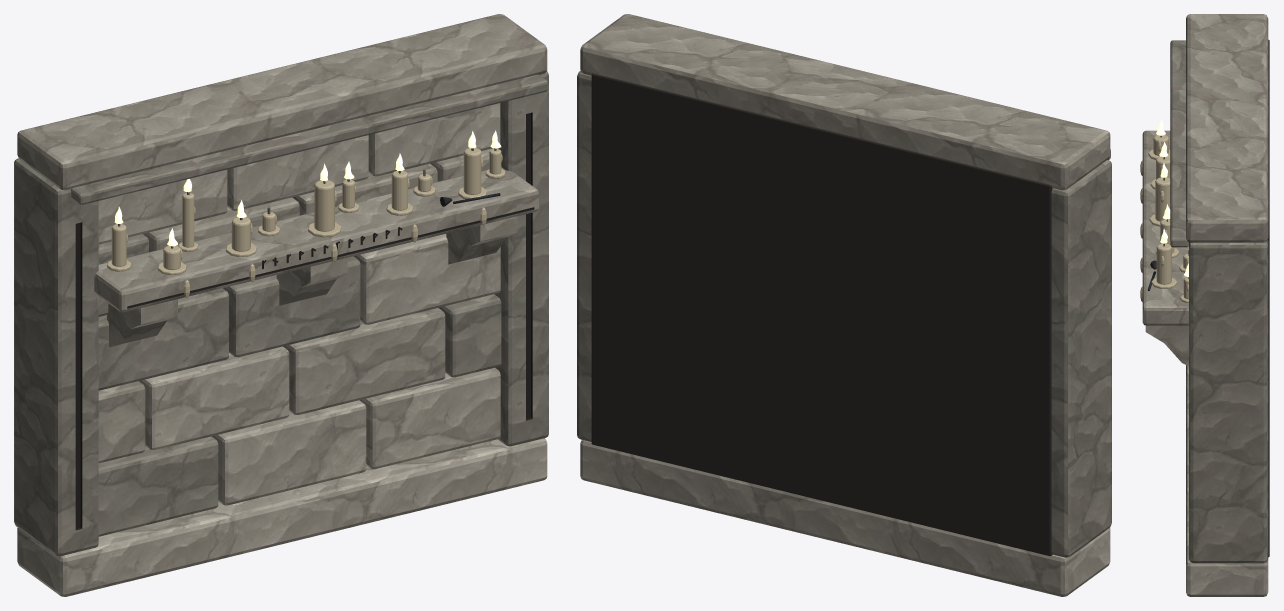
File: qb_candle_ledge.glb
The picture shows the model from 3 angles, left to right: view 1: azimuth 30°, elevation 25°; view 2: azimuth 150°, elevation 25°; view 3: azimuth 270°, elevation 25°; orthographic projection. The views are drawn at different scales.
Parts seen in each view (by area): view 1: model; view 2: model; view 3: model.
Part boxes in pixels (x1=…): model: x1=14, y1=14, x2=548, y2=596; model: x1=577, y1=14, x2=1111, y2=596; model: x1=1140, y1=14, x2=1269, y2=596.
Bounding box in the file's own units: 1.6 × 1.35 × 0.4173.
Materials: 9 (4 with a texture image).
